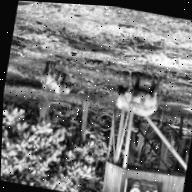boar: (98, 65, 164, 132), (33, 57, 62, 96), (54, 63, 80, 103)
